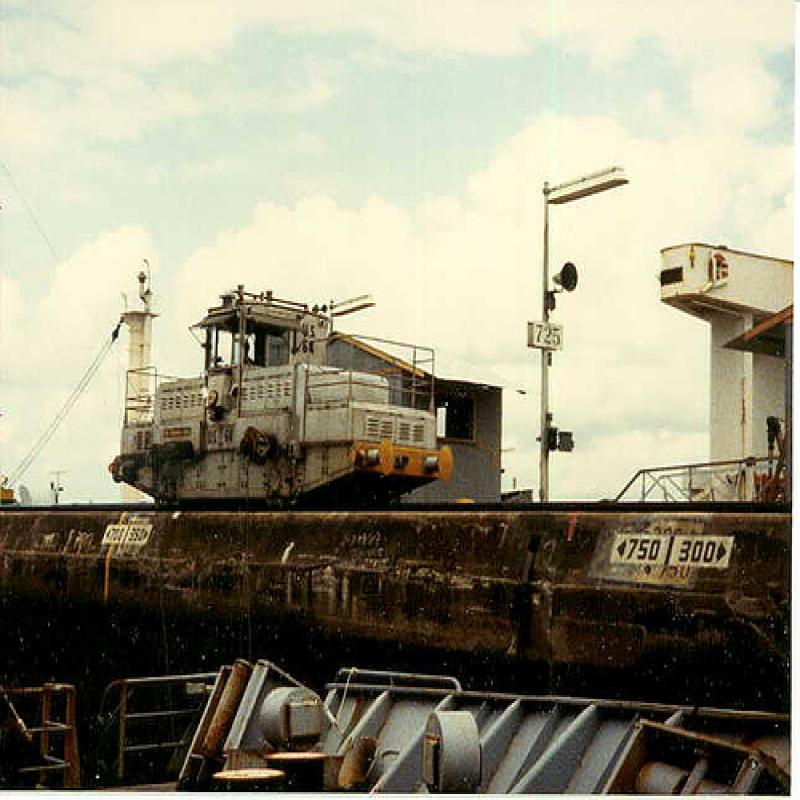train: (110, 260, 457, 512)
